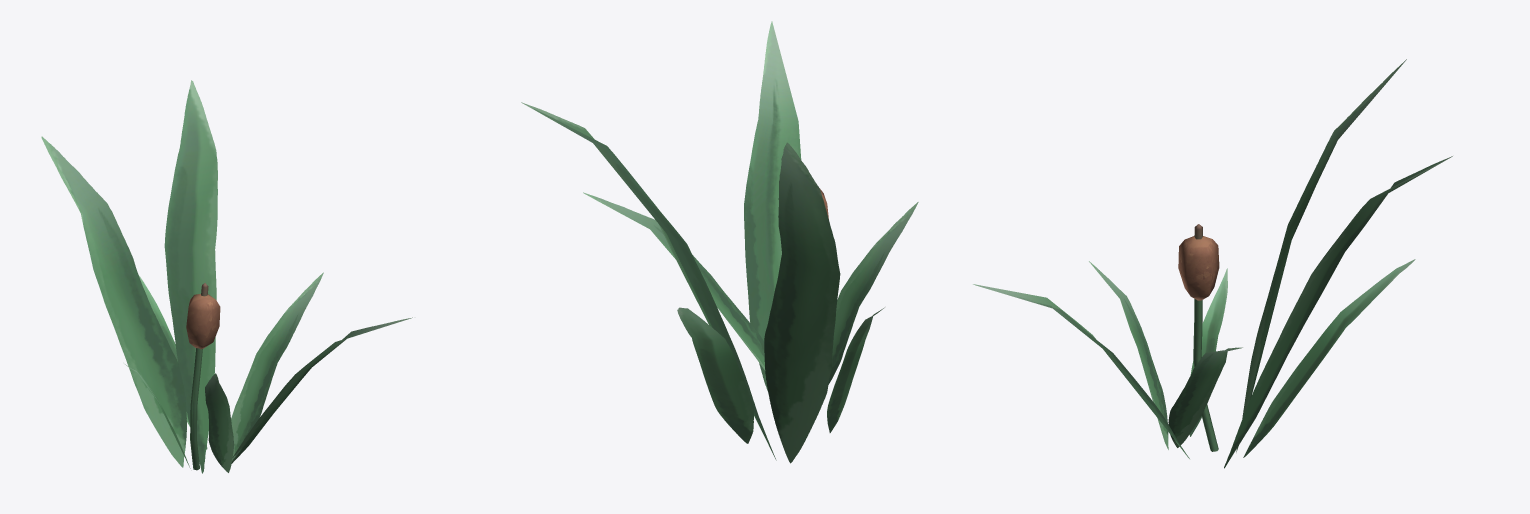
The model's file is SM_Diorama_Reed_003.fbx.
3 renders of one model, left to right at view 1: azimuth 30°, elevation 25°; view 2: azimuth 150°, elevation 25°; view 3: azimuth 270°, elevation 25°, orthographic. The views are drawn at different scales.
Parts seen in each view (by area): view 1: pPlane26; view 2: pPlane26; view 3: pPlane26.
Boxes of the visible parts, <box> form: pPlane26: <box>41,80,412,473</box>; pPlane26: <box>521,21,918,463</box>; pPlane26: <box>973,59,1452,468</box>.
Bounding box in the file's own units: 63.84 × 89.4 × 101.
